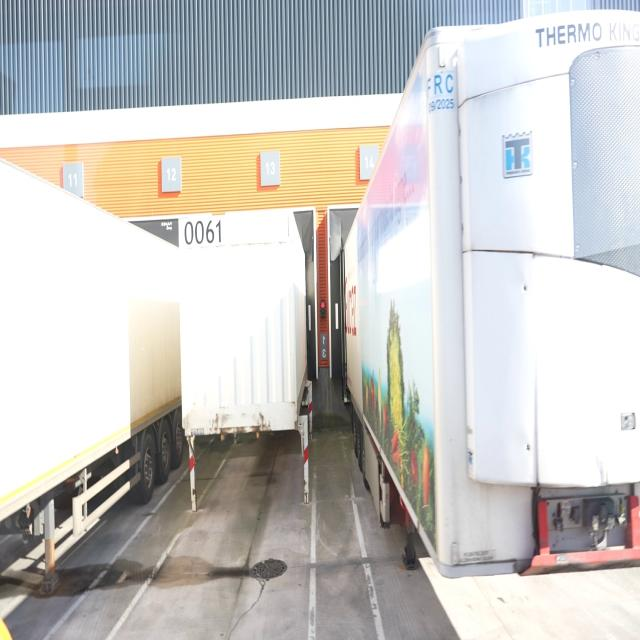Code: (182, 214, 224, 251)
